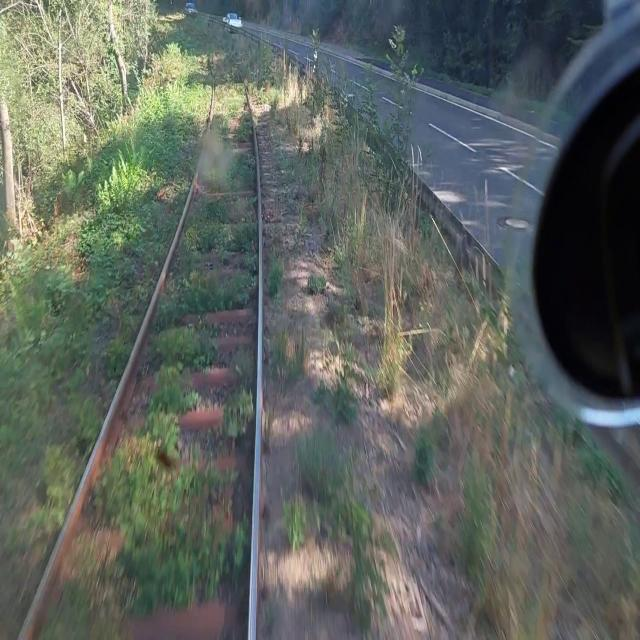Plant: (35, 145, 259, 639), (4, 36, 212, 558), (184, 11, 280, 113), (279, 384, 334, 552), (187, 25, 253, 148), (268, 319, 307, 385), (277, 150, 305, 233), (266, 242, 285, 308)
